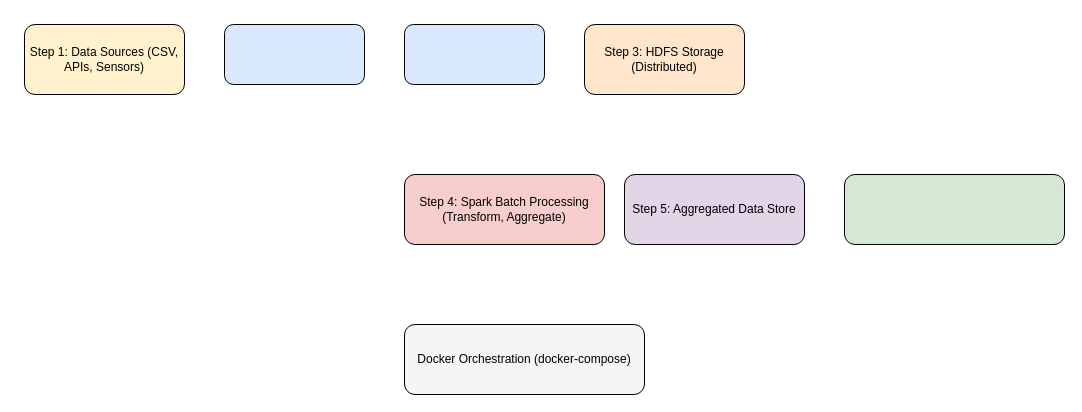
This 1082x412 diagram has some shape labels left out. The shapes that lost their labels are listed below. From the top down, each one's centre as x and y in pixels, then its label:
At [294,54]: "Step 2: Kafka Producers".
At [474,54]: "Step 2: Kafka Broker".
At [954,209]: "Step 6: ML Model Training / Delivery (Quarterly Updates)".
